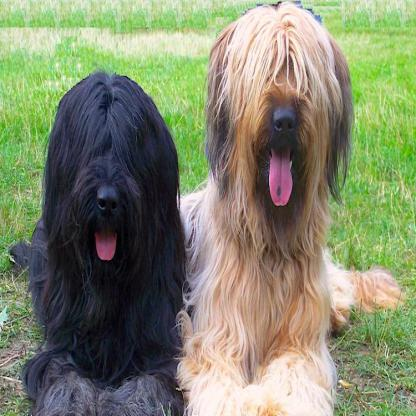Briard: (182, 0, 384, 410), (25, 68, 196, 400)
